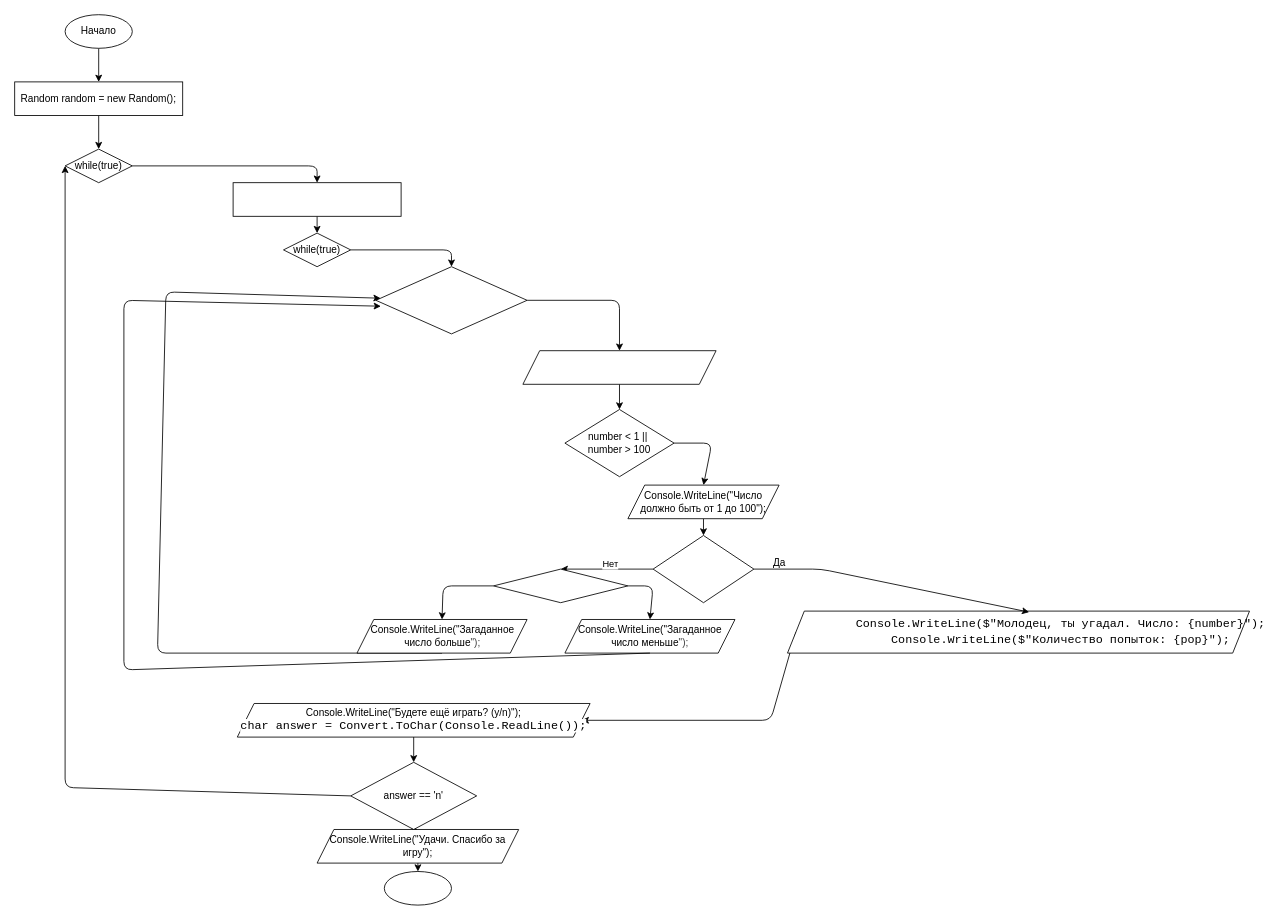
This 1280x920 diagram has some shape labels left out. Each missing label, with the centre of its shape:
!int.TryParse( Console.ReadLine(), out int input): (x=451, y=300)
Console.WriteLine("Введите целое число ");: (x=619, y=367)
input < number: (x=560, y=585)
input == number: (x=703, y=569)
int number = random.Next(1, 101); int pop = 0;: (x=316, y=199)
Конец: (x=417, y=888)
